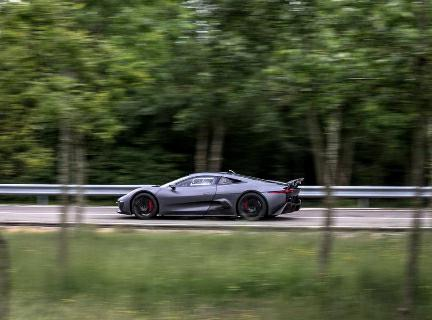捷豹-XEL: (110, 165, 306, 224)
